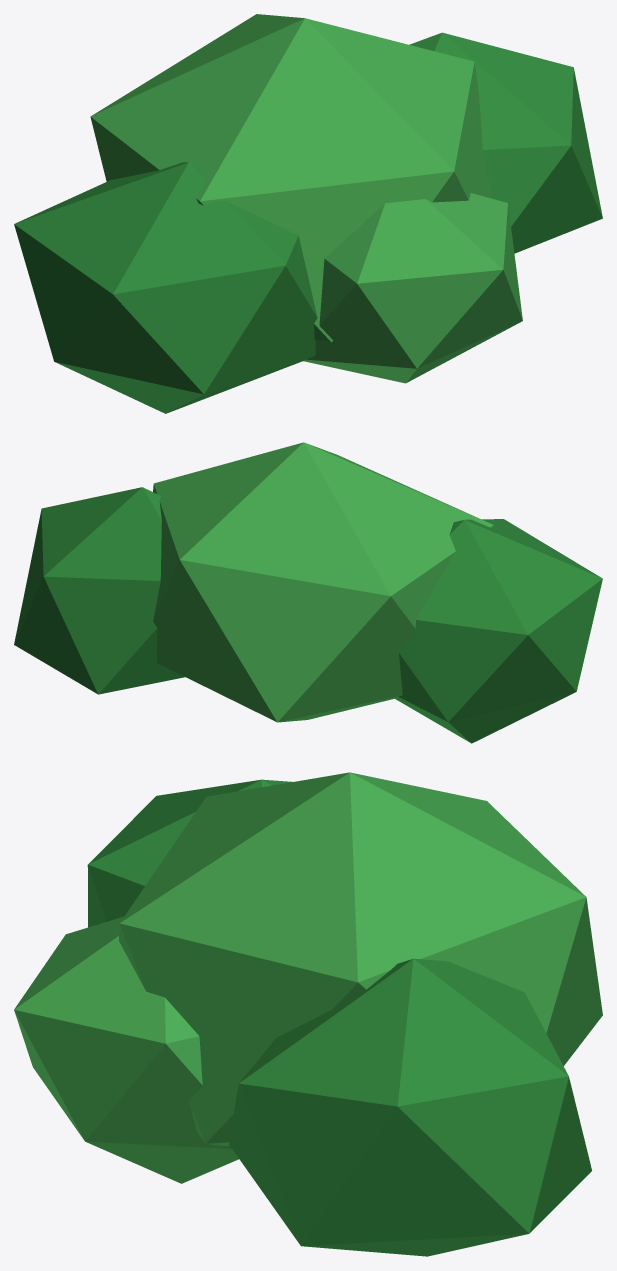
File: Bush.glb
The picture shows the model from 3 angles, top to bottom: view 1: azimuth 30°, elevation 25°; view 2: azimuth 150°, elevation 25°; view 3: azimuth 270°, elevation 25°; orthographic projection. The views are drawn at different scales.
Parts seen in each view (by area): view 1: Bush_Mesh; view 2: Bush_Mesh; view 3: Bush_Mesh.
Part boxes in pixels (x1,y1,x2,y2): Bush_Mesh: (14, 14, 602, 413); Bush_Mesh: (14, 442, 602, 743); Bush_Mesh: (14, 772, 602, 1256).
Bounding box in the file's own units: 2.03 × 1.13 × 1.48.
Materials: 1 (1 with a texture image).
